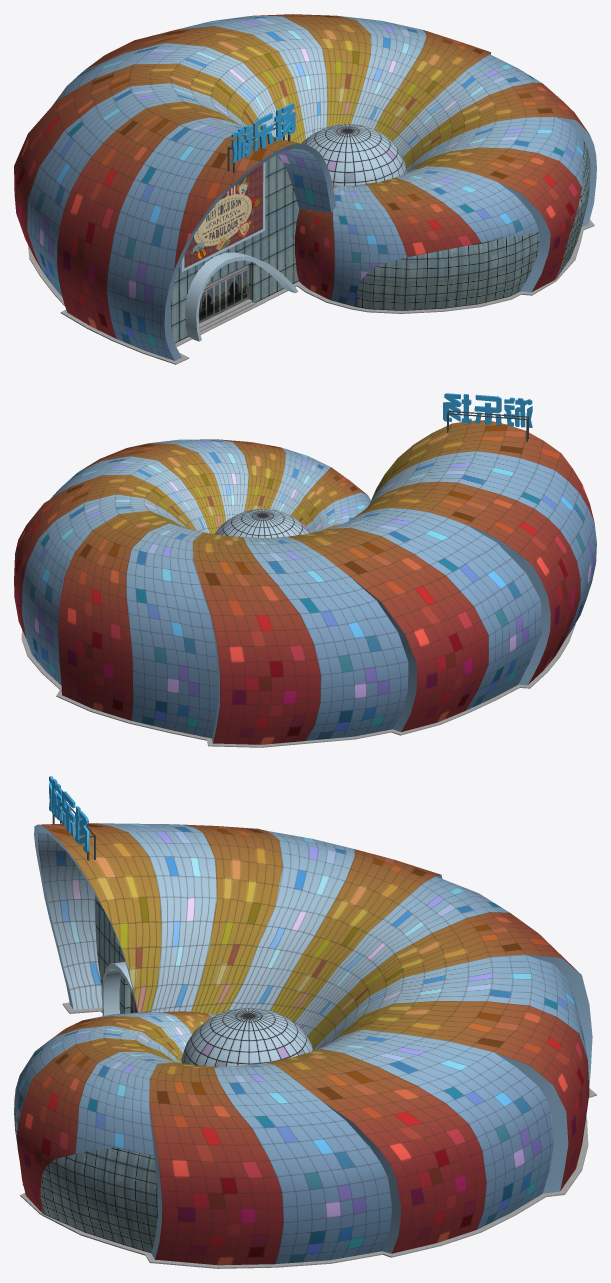
Rendered from store_023_H.FBX.
3 renders of one model, top to bottom at view 1: azimuth 30°, elevation 25°; view 2: azimuth 150°, elevation 25°; view 3: azimuth 270°, elevation 25°, orthographic. The views are drawn at different scales.
Visible parts, largest first — view 1: store_023_H; view 2: store_023_H; view 3: store_023_H.
Part boxes in pixels (x1,y1,x2,y2): store_023_H: (14, 14, 596, 364); store_023_H: (14, 393, 596, 747); store_023_H: (14, 776, 596, 1268).
Size of the model in its own units: 55.19 by 22.73 by 46.35.
1 material, 1 textured.
